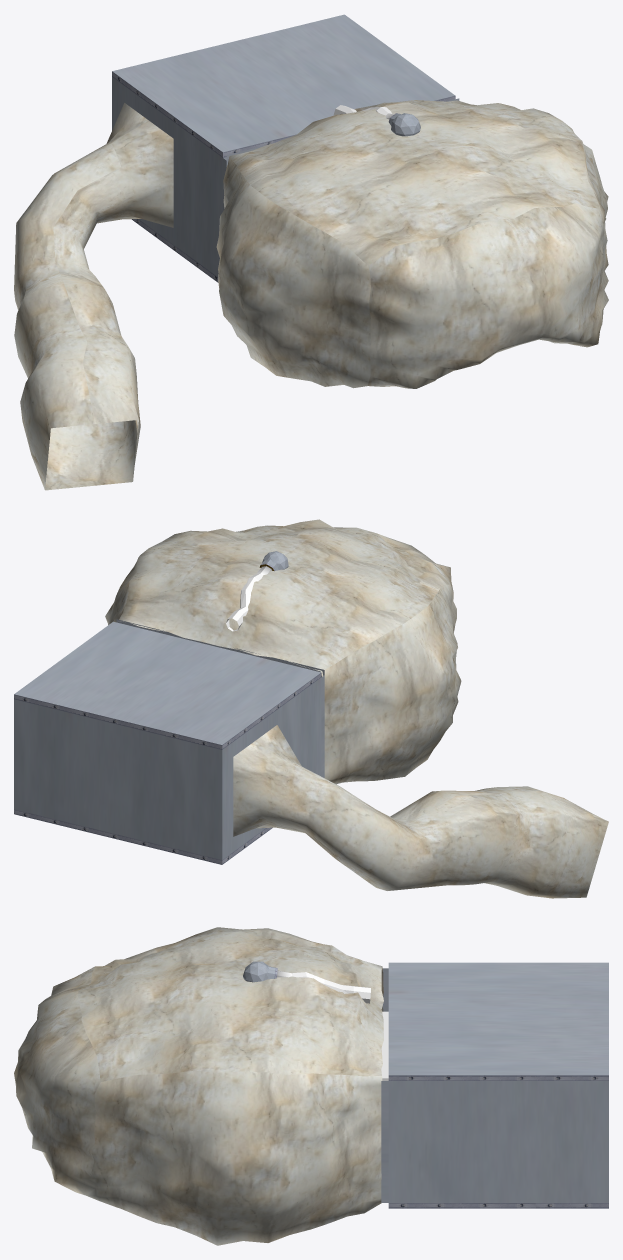
File: control.dae
3 renders of one model, top to bottom at view 1: azimuth 30°, elevation 25°; view 2: azimuth 150°, elevation 25°; view 3: azimuth 270°, elevation 25°, orthographic. The views are drawn at different scales.
Visible parts, largest first — view 1: control_cave, control_tunnel, control; view 2: control_cave, control, control_tunnel, cables; view 3: control_cave, control, cables.
Part boxes in pixels (<box>): control_cave: <box>216,100,608,388</box>; control_tunnel: <box>14,103,173,490</box>; control: <box>112,14,459,282</box>; control_cave: <box>105,519,461,784</box>; control: <box>14,551,324,864</box>; control_tunnel: <box>233,725,608,898</box>; cables: <box>226,559,278,631</box>; control_cave: <box>14,927,383,1245</box>; control: <box>243,961,608,1208</box>; cables: <box>268,966,370,1003</box>.
Bounding box in the file's own units: 514 × 486 × 264.
6 materials, 5 textured.
